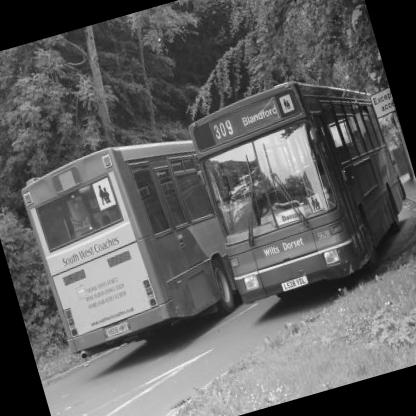bus: (170, 52, 416, 337), (1, 117, 242, 367)
